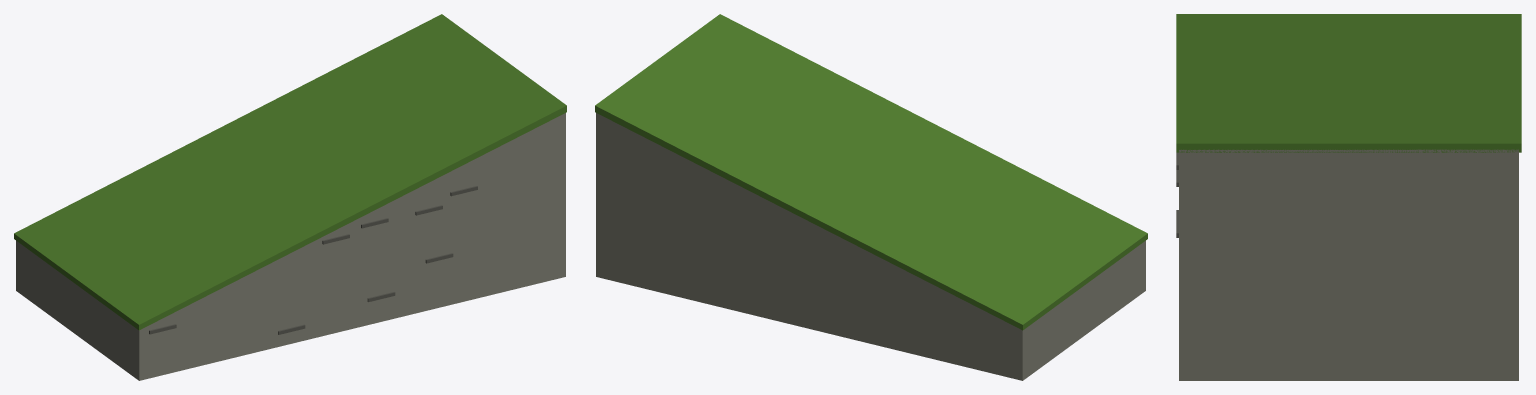
File: ramp_long.glb
3 renders of one model, left to right at view 1: azimuth 30°, elevation 25°; view 2: azimuth 150°, elevation 25°; view 3: azimuth 270°, elevation 25°, orthographic. The views are drawn at different scales.
Parts seen in each view (by area): view 1: moss-col, stone-col, stone_dark; view 2: moss-col, stone-col; view 3: stone-col, moss-col.
Part boxes in pixels (x1,y1,x2,y2): moss-col: (14,14,566,330); stone-col: (16,113,565,380); stone_dark: (149,186,477,334); moss-col: (595,14,1147,330); stone-col: (596,113,1145,380); stone-col: (1179,149,1518,380); moss-col: (1176,14,1521,152).
Size of the model in its own units: 8.02 by 3.08 by 4.06.
